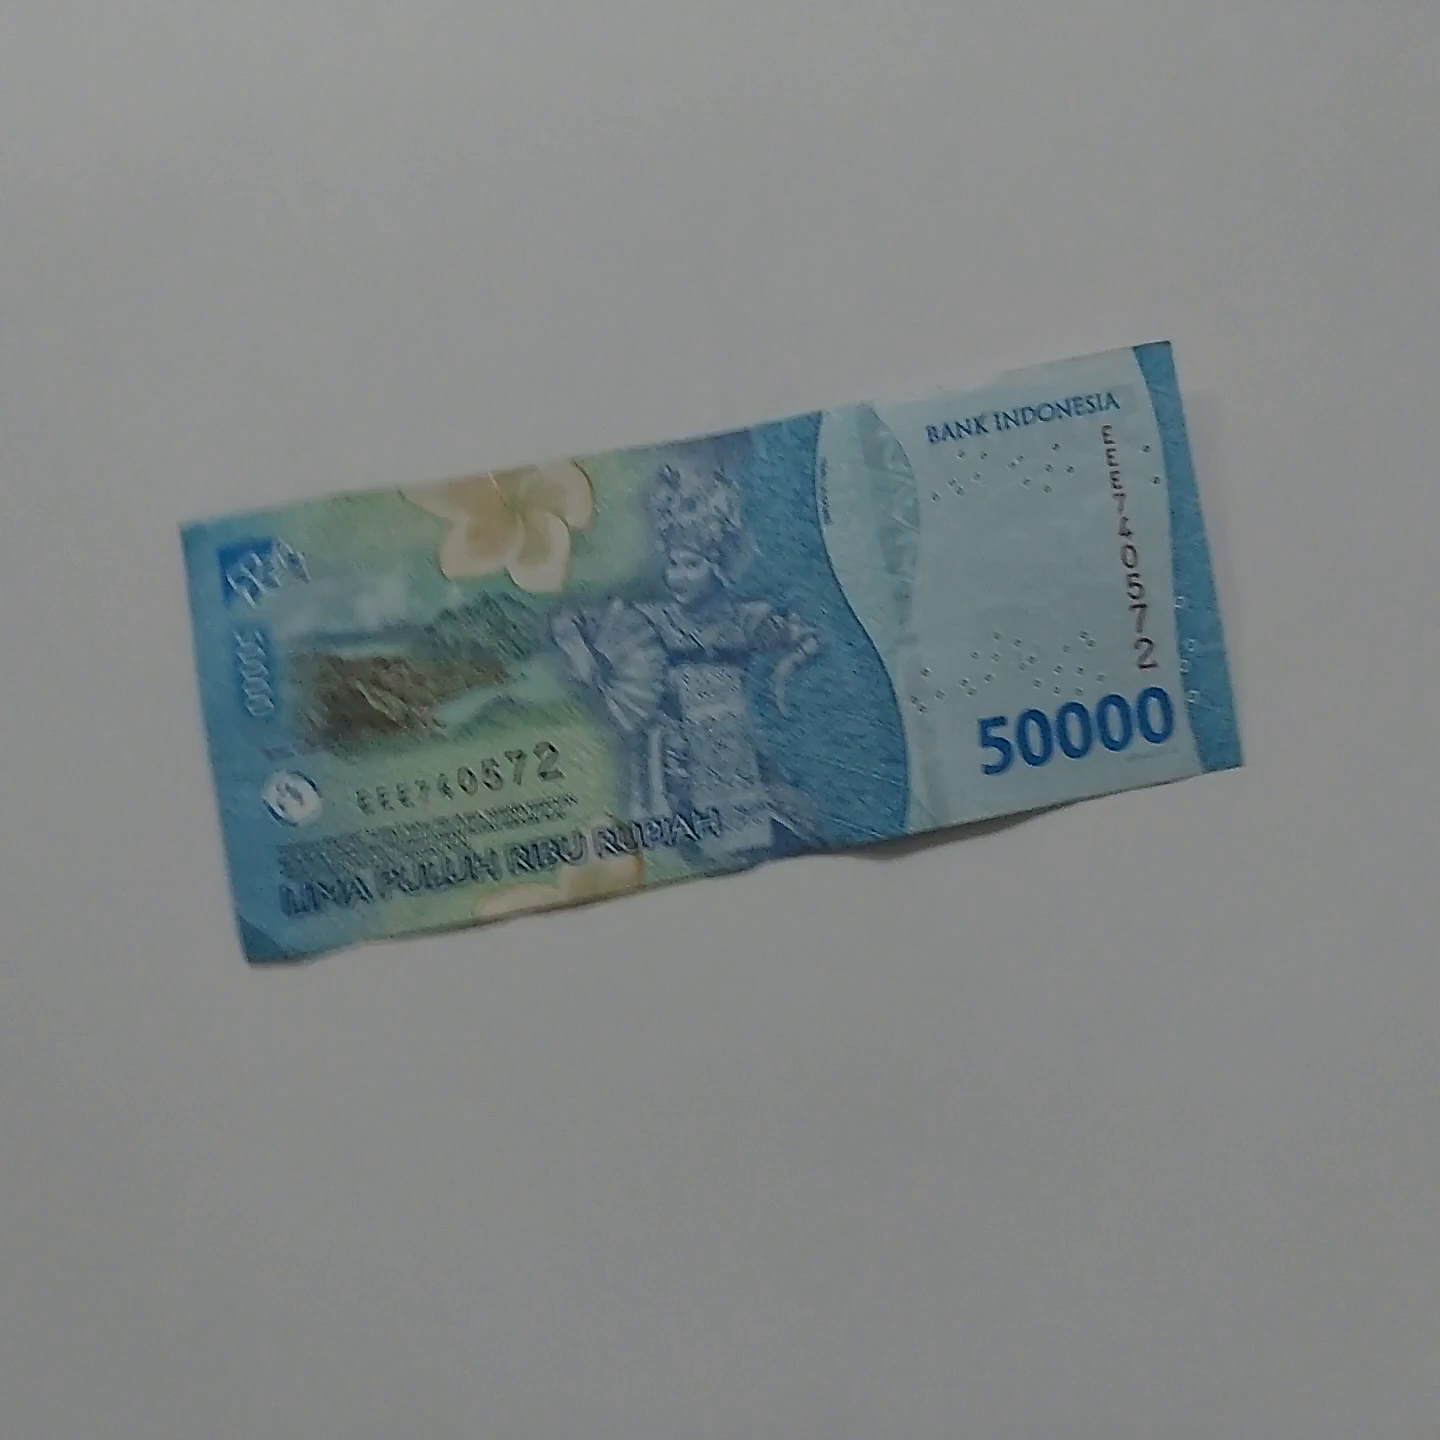50k: (131, 533, 1267, 1001)
